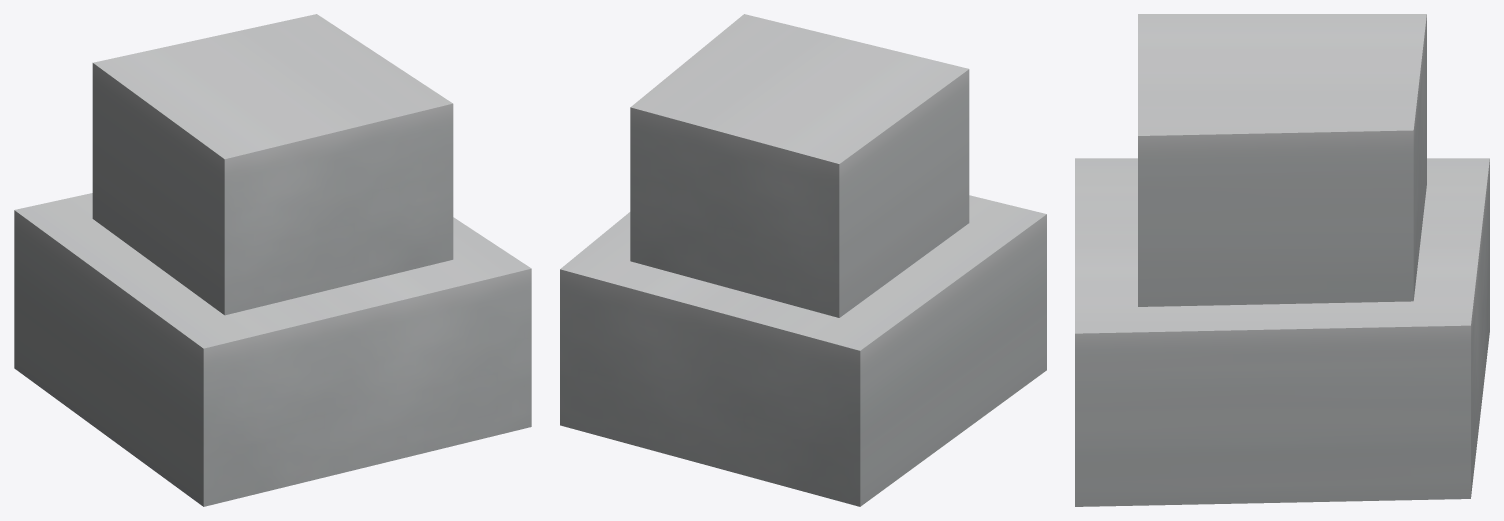
File: postament.fbx
3 renders of one model, left to right at view 1: azimuth 30°, elevation 25°; view 2: azimuth 150°, elevation 25°; view 3: azimuth 270°, elevation 25°, orthographic. The views are drawn at different scales.
Parts seen in each view (by area): view 1: postament; view 2: postament; view 3: postament.
Part boxes in pixels (bbox=[...]): postament: bbox=[14, 14, 531, 506]; postament: bbox=[560, 14, 1046, 506]; postament: bbox=[1075, 14, 1489, 506].
Size of the model in its own units: 220 by 201 by 220.
Materials: 1 (1 with a texture image).
